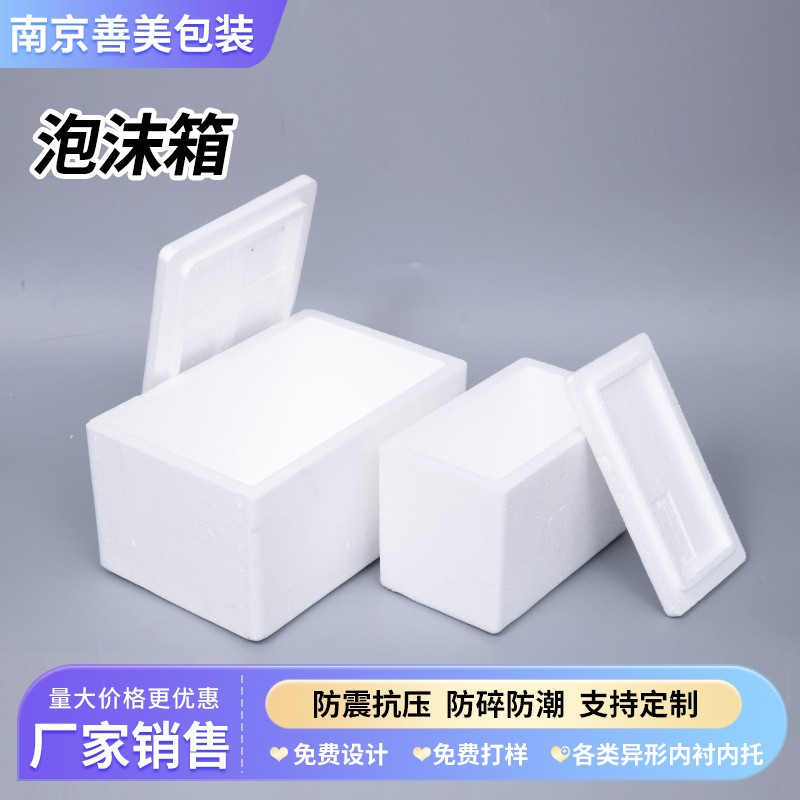Boxes: (88, 176, 744, 640)
